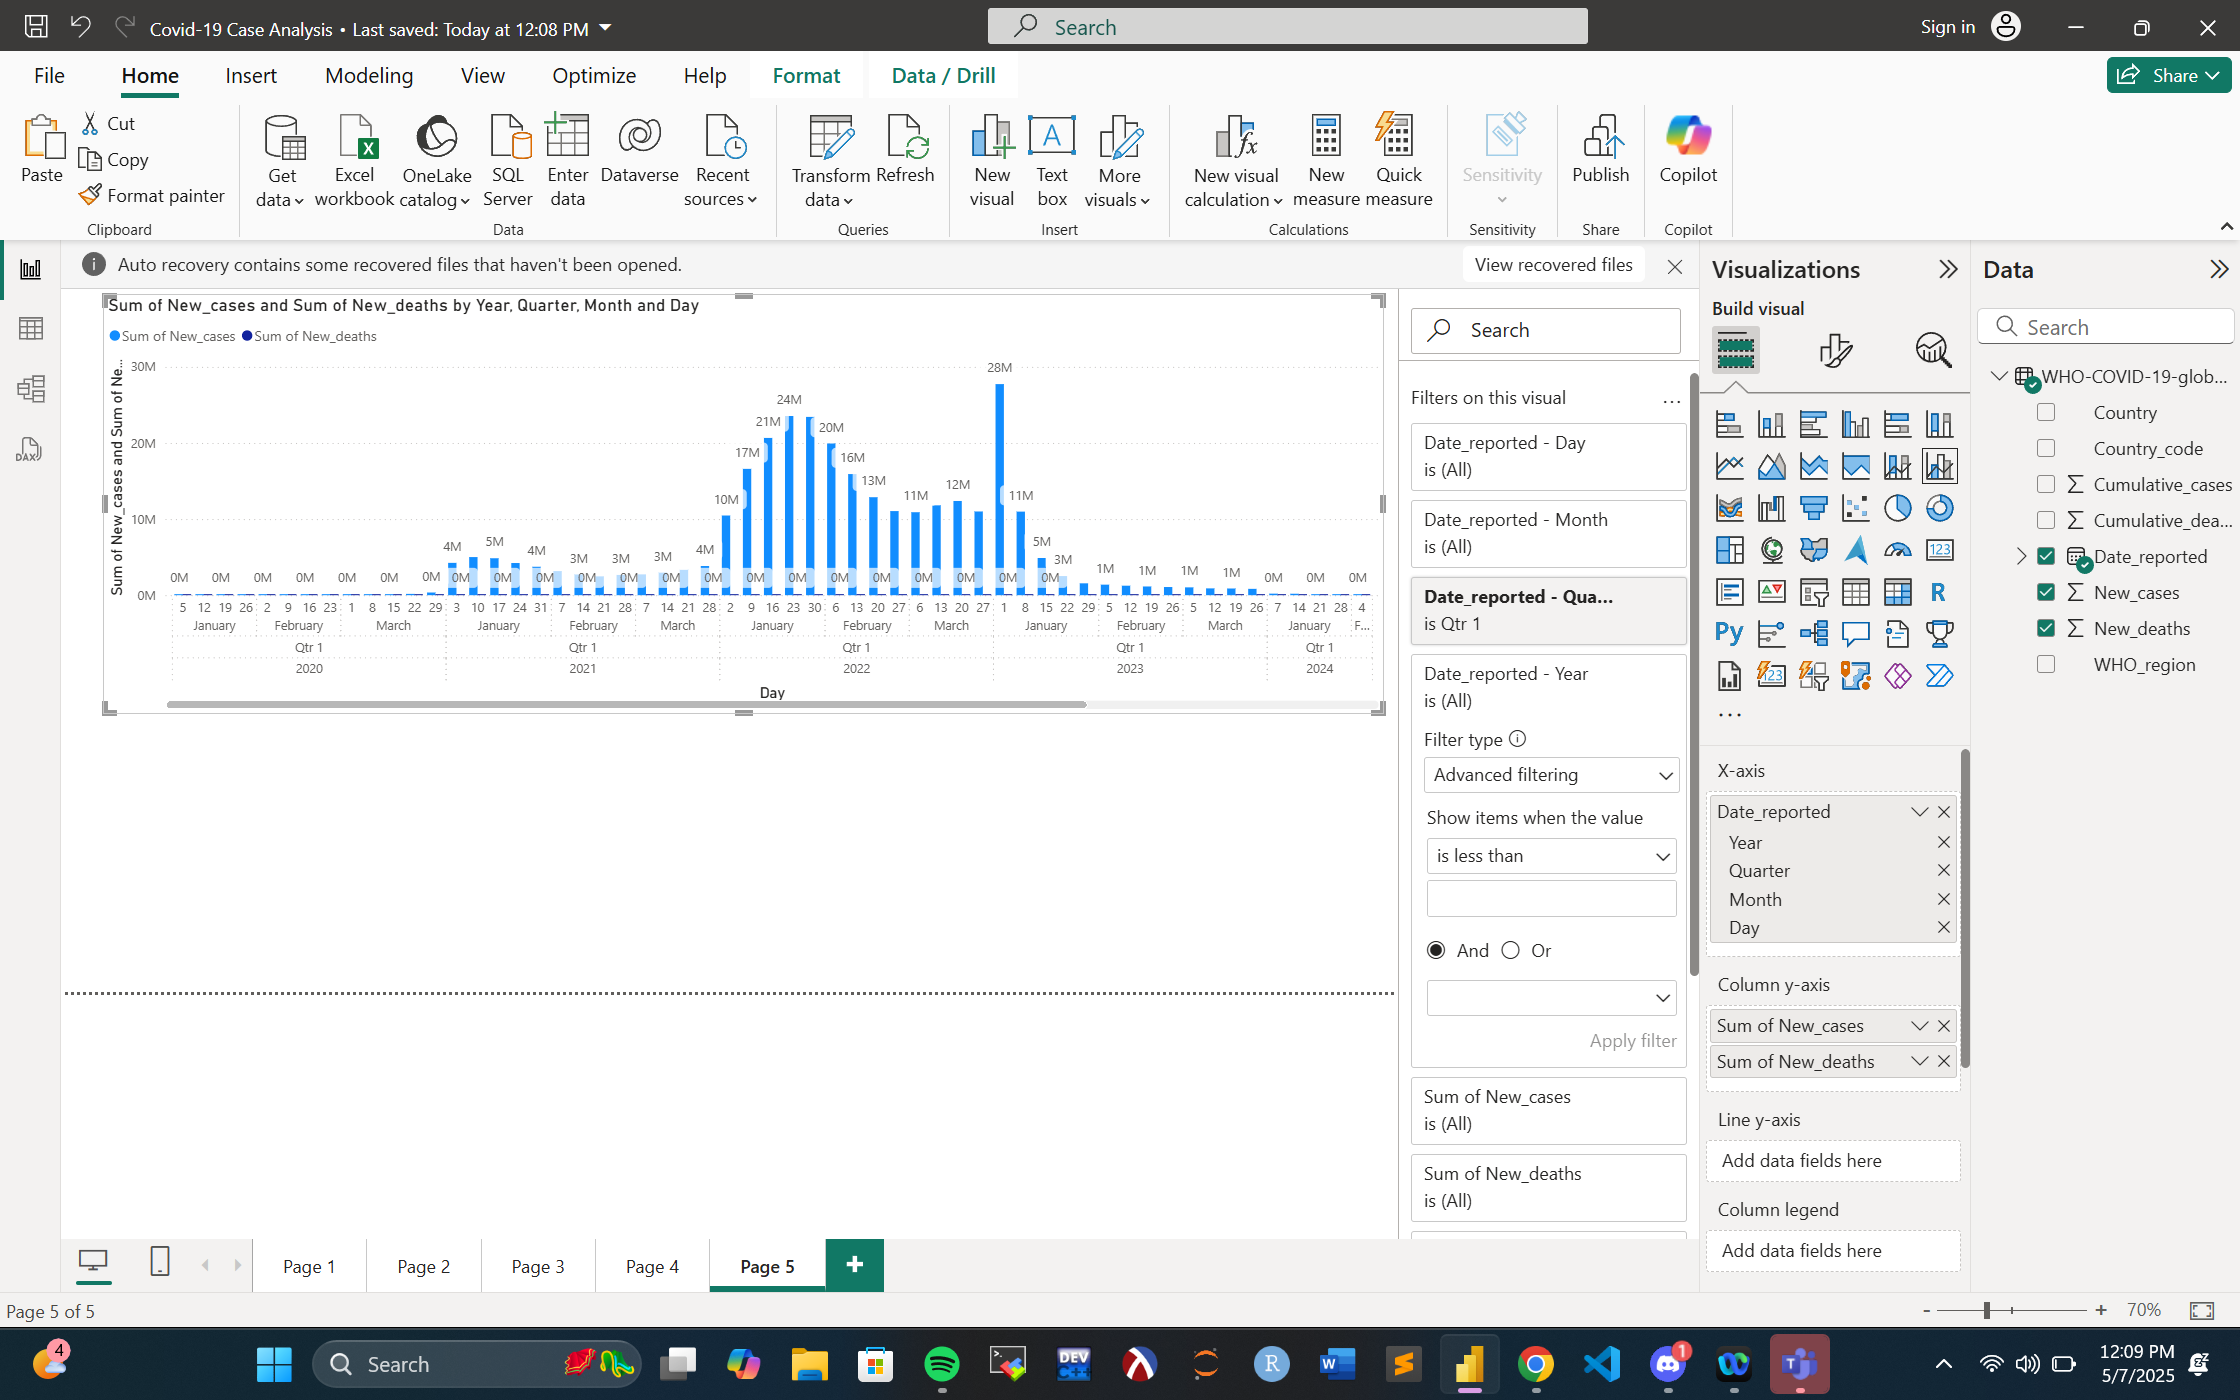

The page's visual inventory and layout, read from the dashboard file:
{"tool":"powerbi","page":{"name":"Page 5","canvas":[1280,720],"ordinal":4},"visuals":[{"type":"lineClusteredColumnComboChart","fields":{"Y":["Sum(WHO-COVID-19-global-data.New_cases)","Sum(WHO-COVID-19-global-data.New_deaths)"],"Category":["WHO-COVID-19-global-data.Date_reported.Variation.Date Hierarchy.Year","WHO-COVID-19-global-data.Date_reported.Variation.Date Hierarchy.Quarter","WHO-COVID-19-global-data.Date_reported.Variation.Date Hierarchy.Month","WHO-COVID-19-global-data.Date_reported.Variation.Date Hierarchy.Day"]},"box":[40.2,51.7,1226.4,402.1],"z":0}]}

Visuals, with their boxes on the page's 1280x720 design canvas (x1, y1, x2, y2). These are canvas units, not pixel positions in the 2240x1400 screenshot, which may show the page scaled, cropped or inside an application window:
lineClusteredColumnComboChart - Sum(WHO-COVID-19-global-data.New_cases) x Sum(WHO-COVID-19-global-data.New_deaths): {"x1": 40, "y1": 52, "x2": 1267, "y2": 454}
